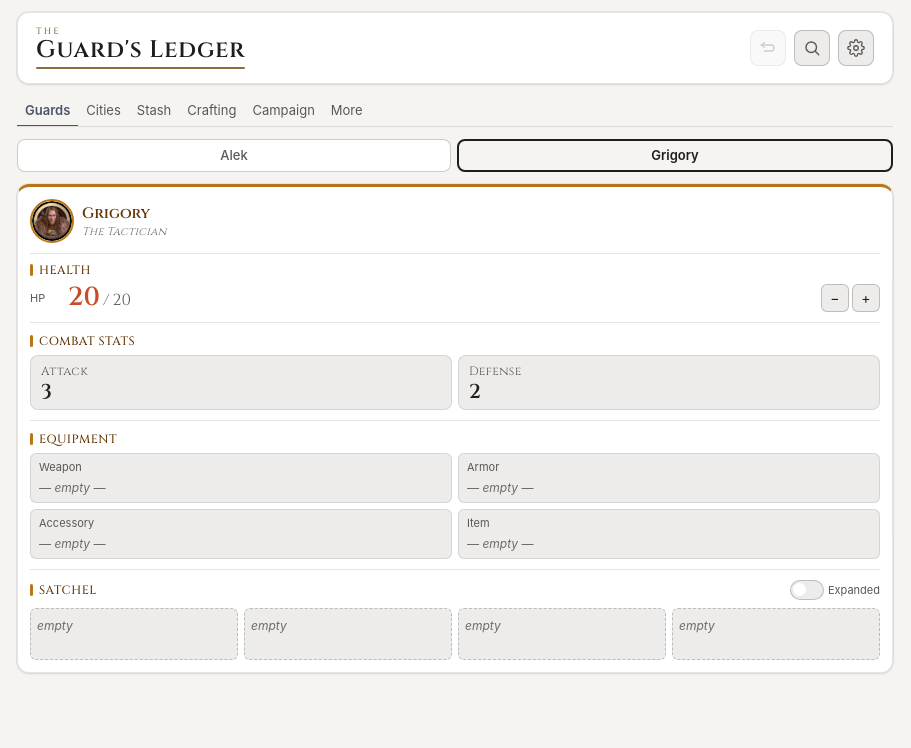
Test: talent bonus through App › + raises Attack and shows the talent in the breakdown
Click the button with class "combat-stat-toggle" showing "Attack 3".
click(65, 371)  # box [41,363,441,402]
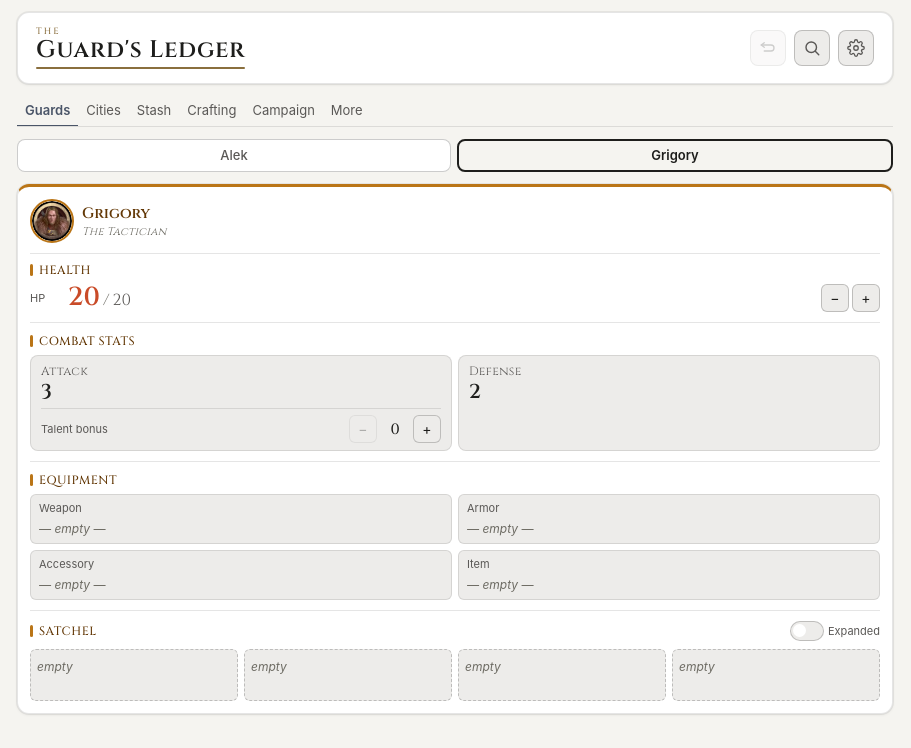
Click the button "+" in the row of "Talent bonus".
click(427, 429)  # box [413,415,441,443]
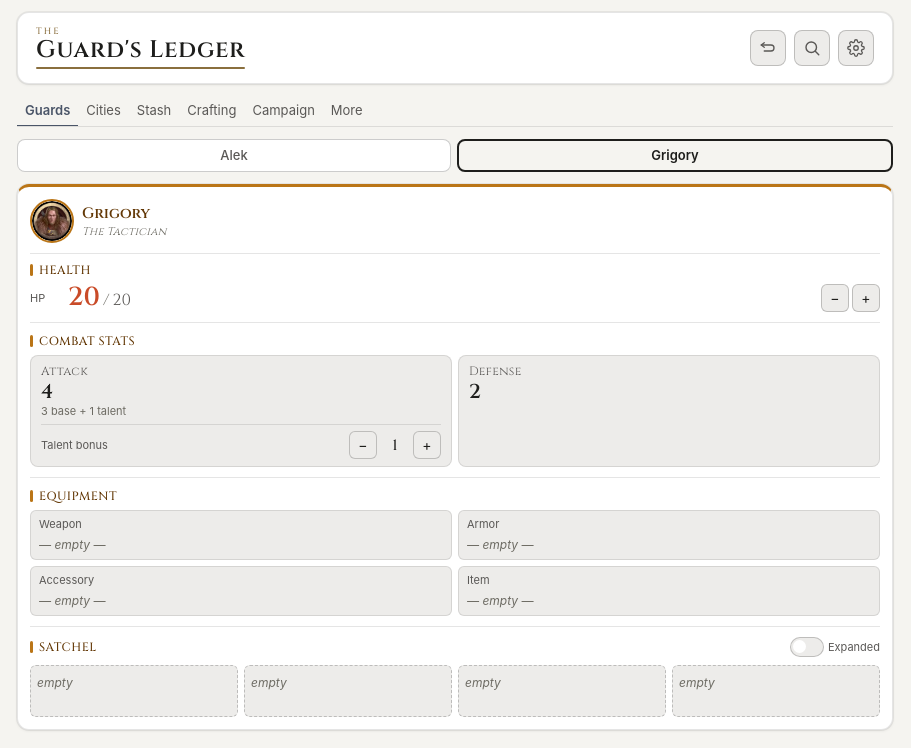
Check: the text with class "combat-stat-breakdown" shows "1 talent", box [41,404,126,418]
Check: the text with class "adj-val" reads "1", box [392,434,398,456]
